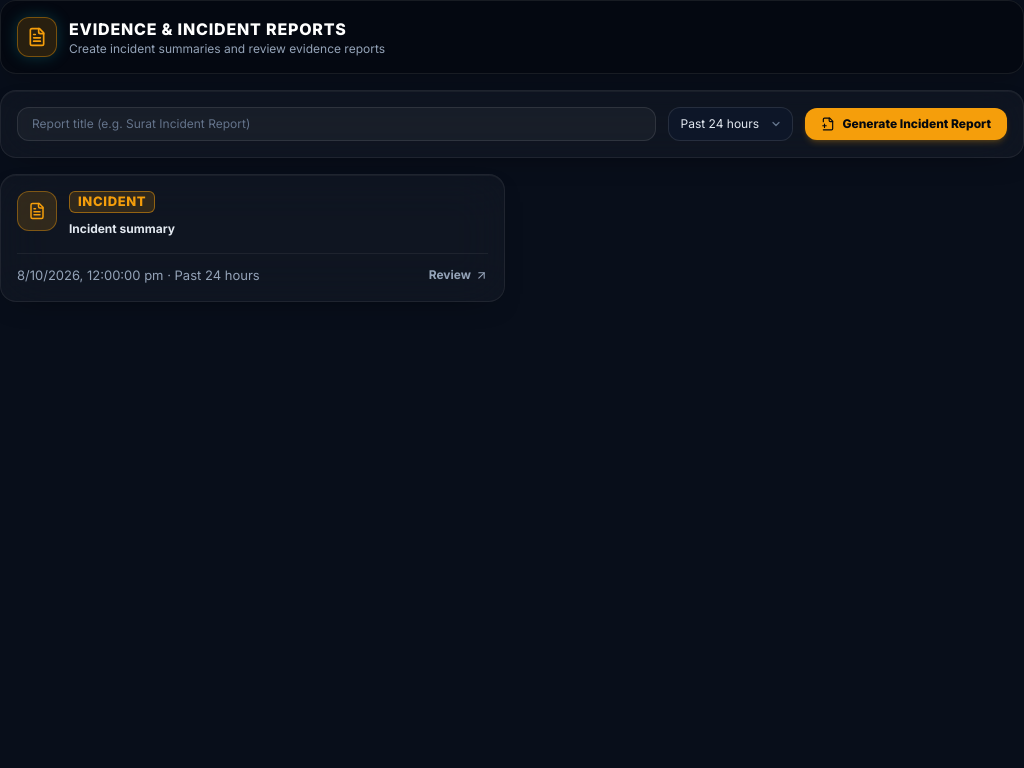
Test case: shows a small message when a PDF download fails and allows retry
Click the heading "Incident summary" at (122, 228), box 69,220 -> 175,236
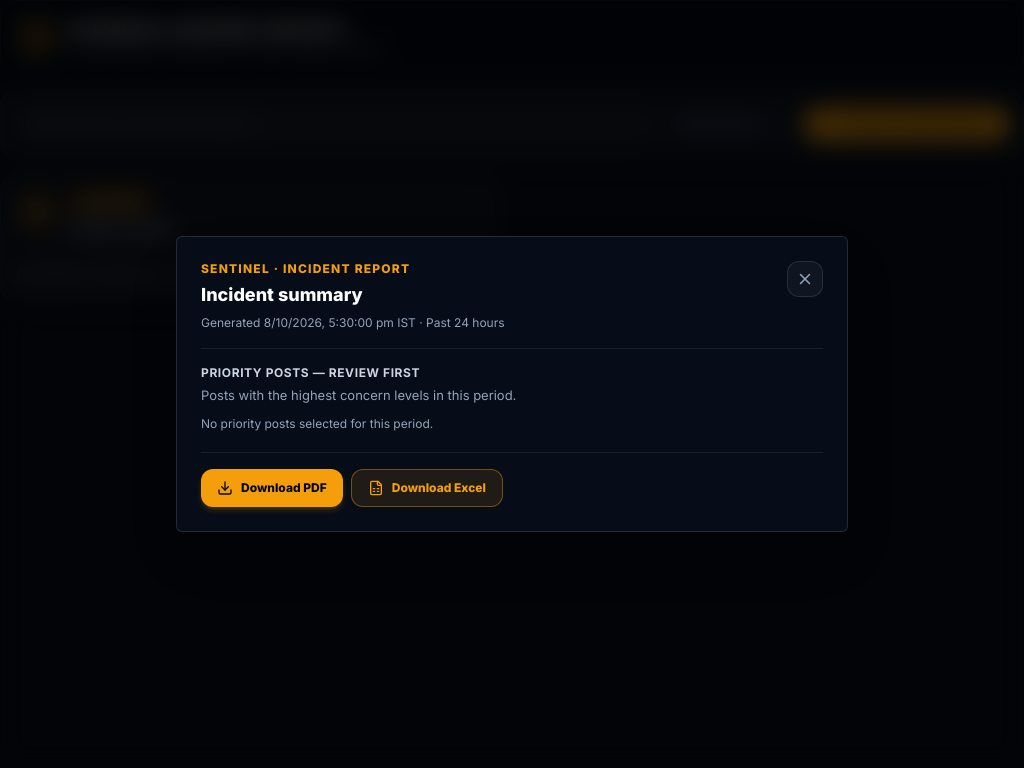
Click the button "Download PDF" at (272, 488), box 201,469 -> 343,507
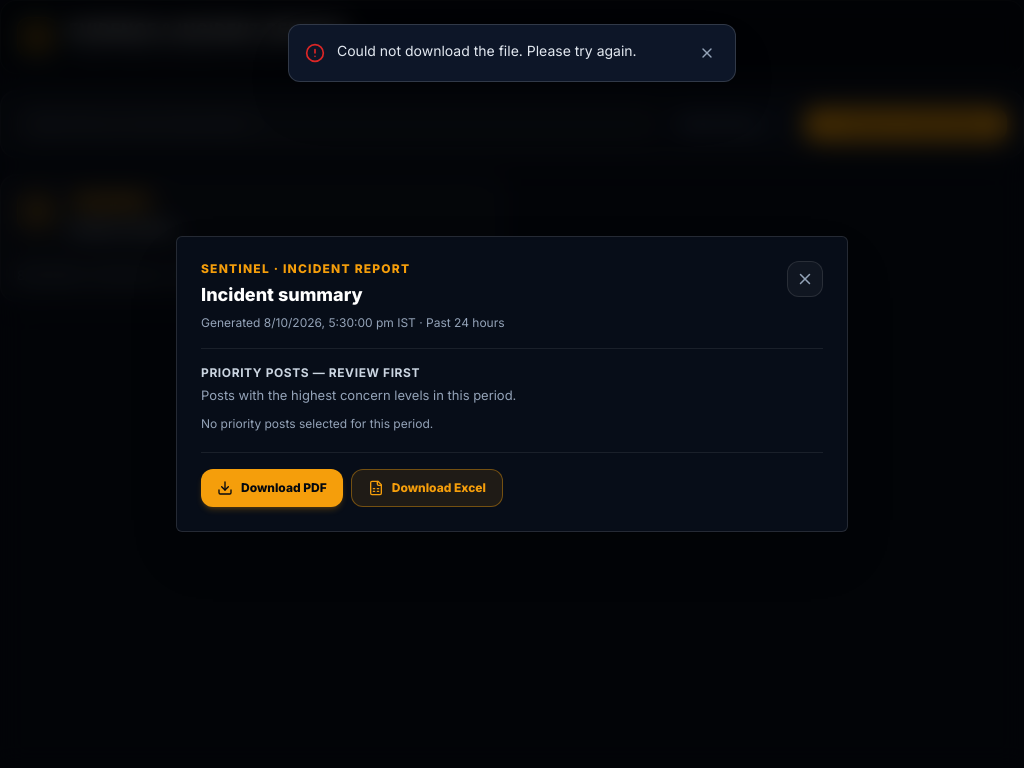
Expected: the button "Download PDF" is enabled, 201,469 -> 343,507
Expected: the message reads "Could not download the file. Please try again.", 337,42 -> 637,59
